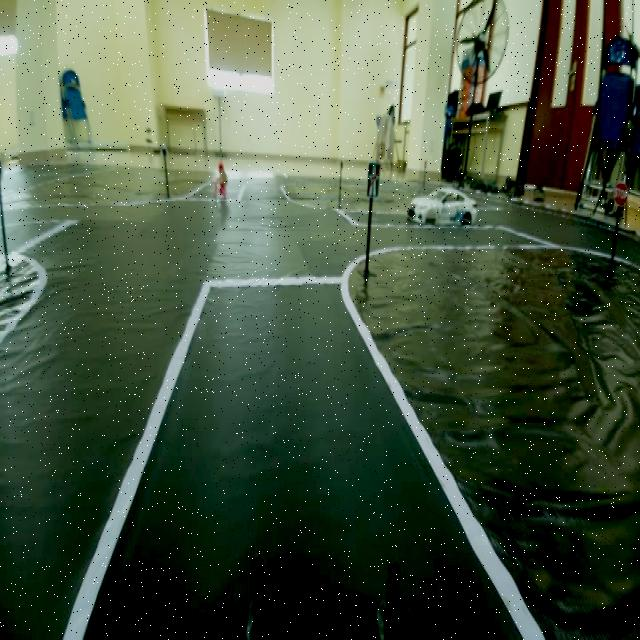highway_exit: (362, 151, 384, 210)
